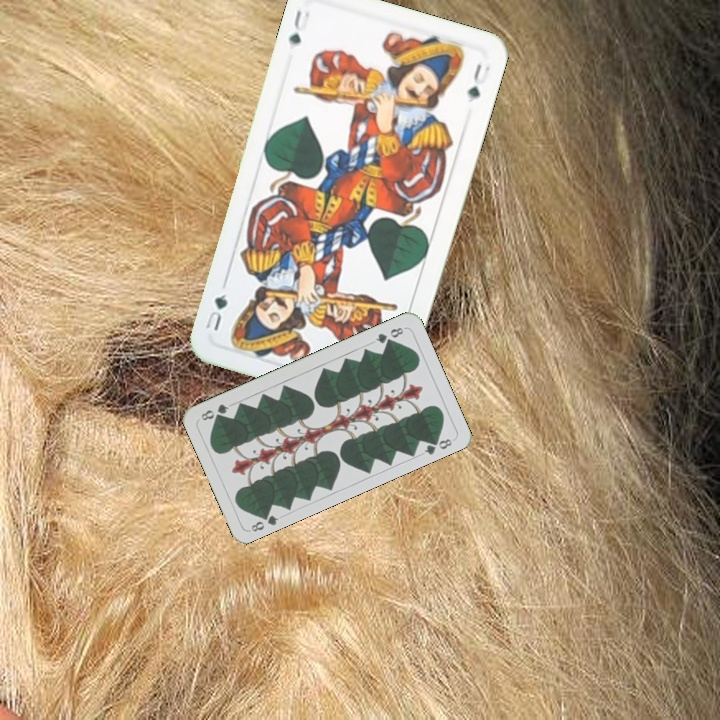G8: (246, 507, 281, 535), (372, 323, 406, 346)
GU: (284, 4, 312, 47)
